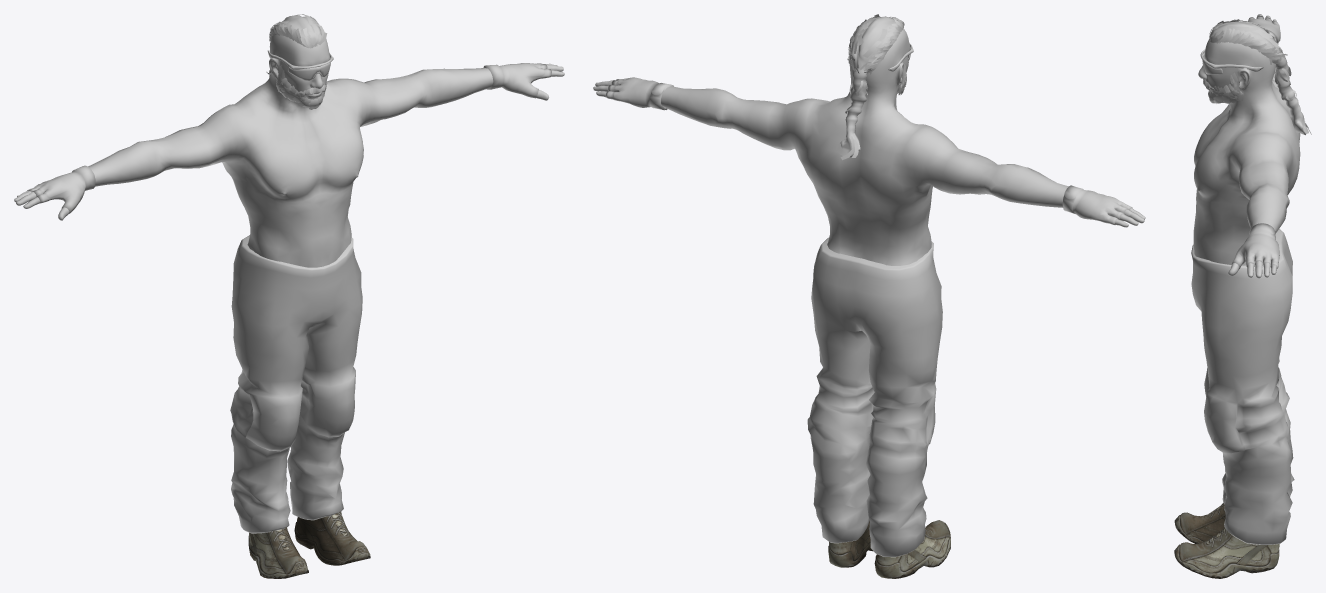
Rendered from Carlos.obj.
3 views of the same model, side by side, from view 1: azimuth 30°, elevation 25°; view 2: azimuth 150°, elevation 25°; view 3: azimuth 270°, elevation 25° (orthographic).
Visible parts, largest first — view 1: Body, Bottoms, Shoes, Gloves, Hair; view 2: Bottoms, Body, Hair, Shoes, Gloves; view 3: Bottoms, Body, Shoes, Hair, Gloves, Beards, Eyewear.
Boxes of the visible parts, bbox=[...] form: Body: bbox=[14, 35, 564, 267]; Bottoms: bbox=[230, 235, 362, 533]; Shoes: bbox=[248, 512, 370, 578]; Gloves: bbox=[27, 63, 551, 213]; Hair: bbox=[266, 14, 327, 77]; Bottoms: bbox=[807, 237, 942, 557]; Body: bbox=[593, 28, 1145, 265]; Hair: bbox=[837, 14, 904, 160]; Shoes: bbox=[828, 520, 950, 578]; Gloves: bbox=[605, 77, 1132, 224]; Bottoms: bbox=[1191, 228, 1294, 544]; Body: bbox=[1193, 14, 1300, 278]; Shoes: bbox=[1174, 503, 1279, 578]; Hair: bbox=[1209, 19, 1311, 135]; Gloves: bbox=[1231, 15, 1280, 268]; Beards: bbox=[1208, 71, 1244, 103]; Eyewear: bbox=[1200, 49, 1263, 74].
Size of the model in its own units: 96.83 by 91.06 by 21.29.
